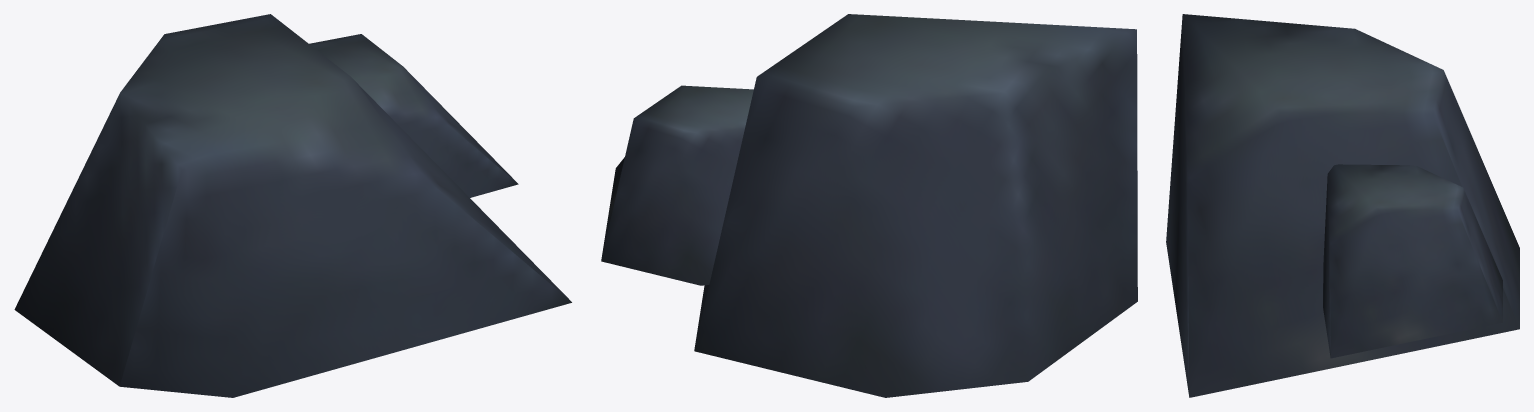
Rendered from Area_03_4.fbx.
The picture shows the model from 3 angles, left to right: view 1: azimuth 30°, elevation 25°; view 2: azimuth 150°, elevation 25°; view 3: azimuth 270°, elevation 25°; orthographic projection. The views are drawn at different scales.
Parts seen in each view (by area): view 1: Area_03_4; view 2: Area_03_4; view 3: Area_03_4.
Boxes of the visible parts, box(x1,y1,x2,y2) form: Area_03_4: box(14, 14, 571, 397); Area_03_4: box(601, 14, 1137, 397); Area_03_4: box(1166, 14, 1519, 397).
Bounding box in the file's own units: 1509 × 740 × 1133.
